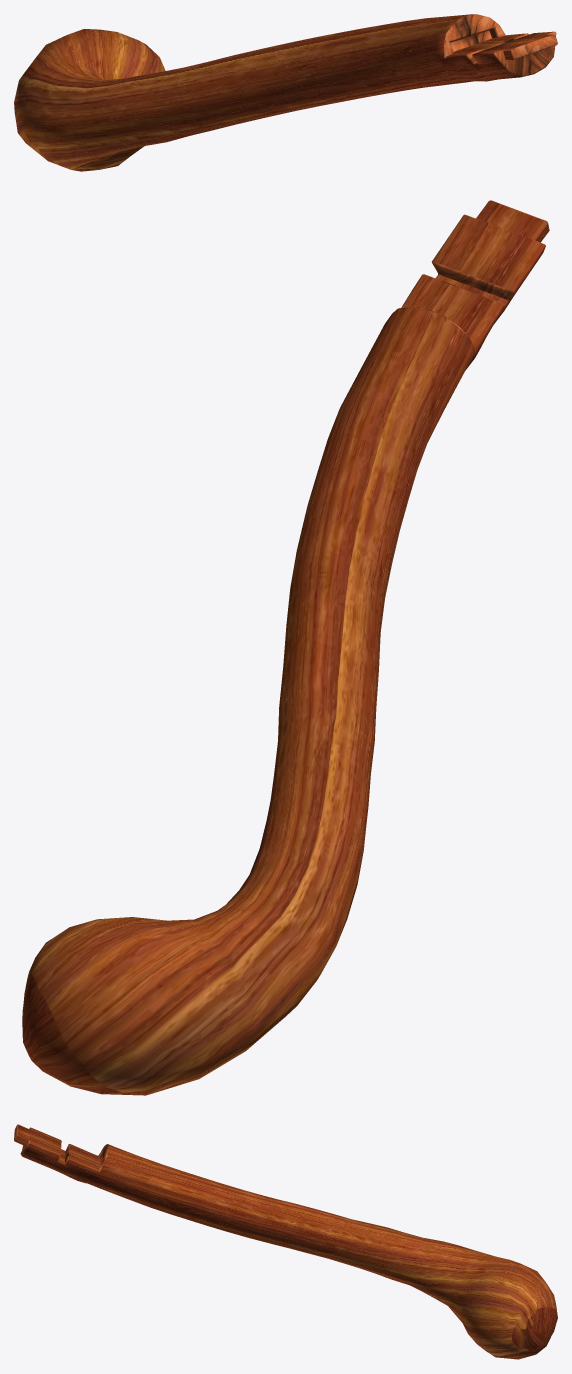
File: quanyi_J_D_yiquan01.FBX
3 renders of one model, top to bottom at view 1: azimuth 30°, elevation 25°; view 2: azimuth 150°, elevation 25°; view 3: azimuth 270°, elevation 25°, orthographic. The views are drawn at different scales.
Visible parts, largest first — view 1: quanyi_J_D_yiquan01; view 2: quanyi_J_D_yiquan01; view 3: quanyi_J_D_yiquan01.
Boxes of the visible parts, left/top/right/bottom form: quanyi_J_D_yiquan01: left=14, top=14, right=557, bottom=171; quanyi_J_D_yiquan01: left=22, top=200, right=549, bottom=1095; quanyi_J_D_yiquan01: left=14, top=1124, right=557, bottom=1359.
Bounding box in the file's own units: 10.75 × 18.19 × 35.93.
Materials: 2 (2 with a texture image).
